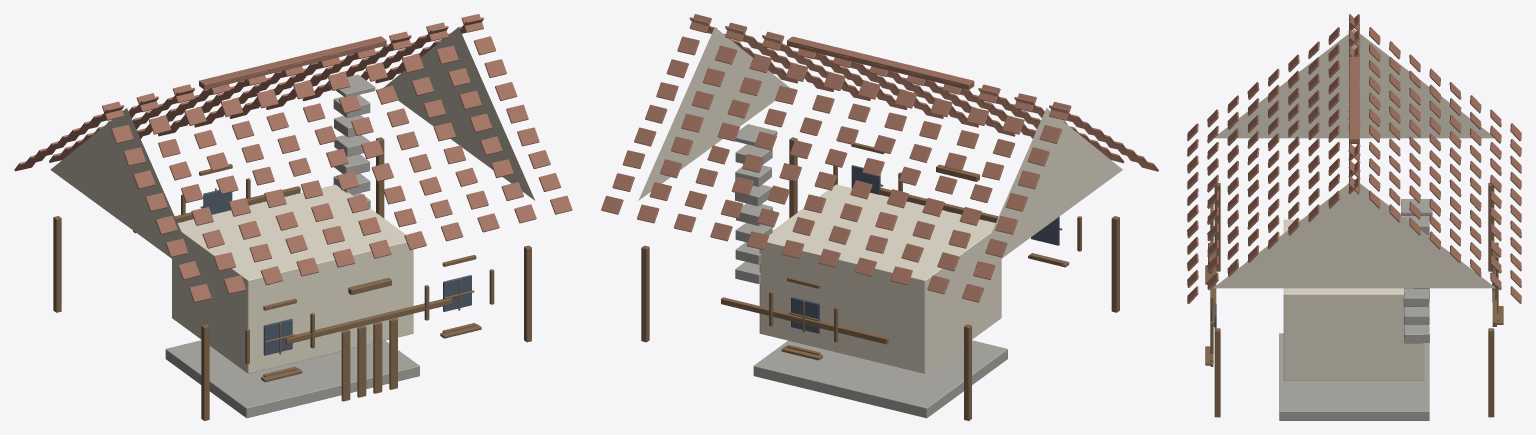
The model's file is cottage.glb.
3 views of the same model, side by side, from view 1: azimuth 30°, elevation 25°; view 2: azimuth 150°, elevation 25°; view 3: azimuth 270°, elevation 25° (orthographic). The views are drawn at different scales.
Visible parts, largest first — view 1: cottage; view 2: cottage; view 3: cottage.
Part boxes in pixels (bbox=[...]): cottage: bbox=[14, 14, 572, 420]; cottage: bbox=[601, 14, 1158, 420]; cottage: bbox=[1187, 14, 1521, 420].
Size of the model in its own units: 5.73 by 4.43 by 4.73.
